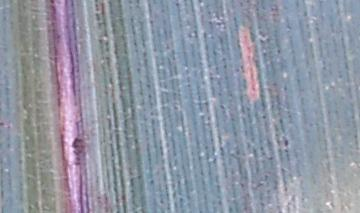tarspot: (71, 136, 86, 167), (281, 137, 290, 148), (275, 46, 282, 54), (47, 1, 56, 5), (261, 113, 265, 120)
